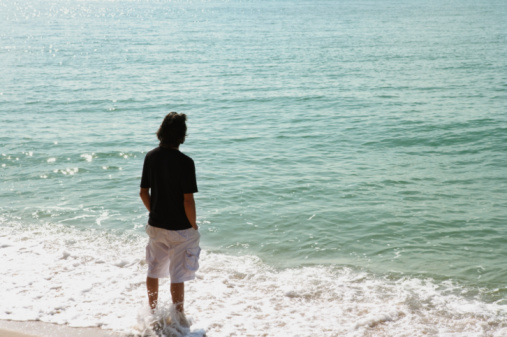em pe: (130, 103, 201, 337)
